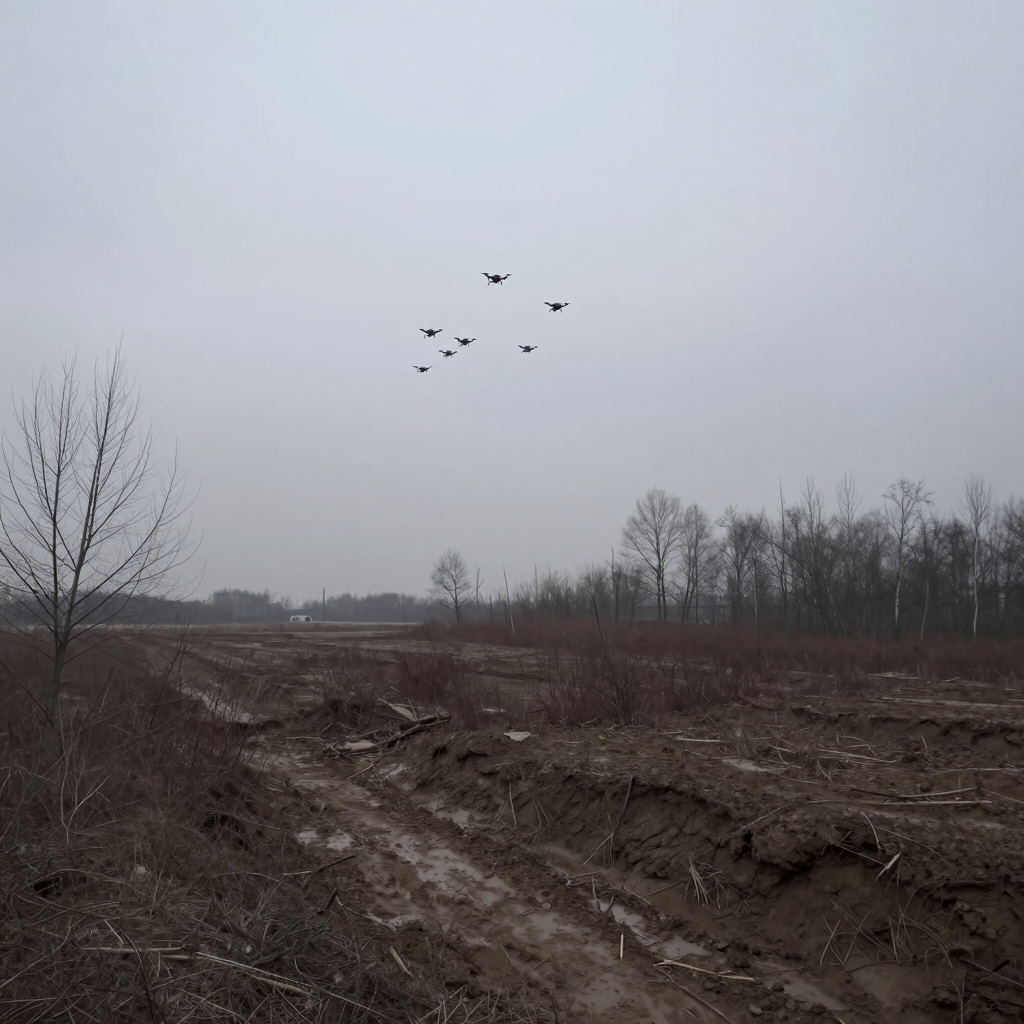drone: (481, 273, 512, 286), (543, 302, 570, 313), (419, 328, 443, 339), (454, 337, 476, 347), (438, 349, 457, 358), (412, 365, 433, 373), (517, 345, 538, 353)
